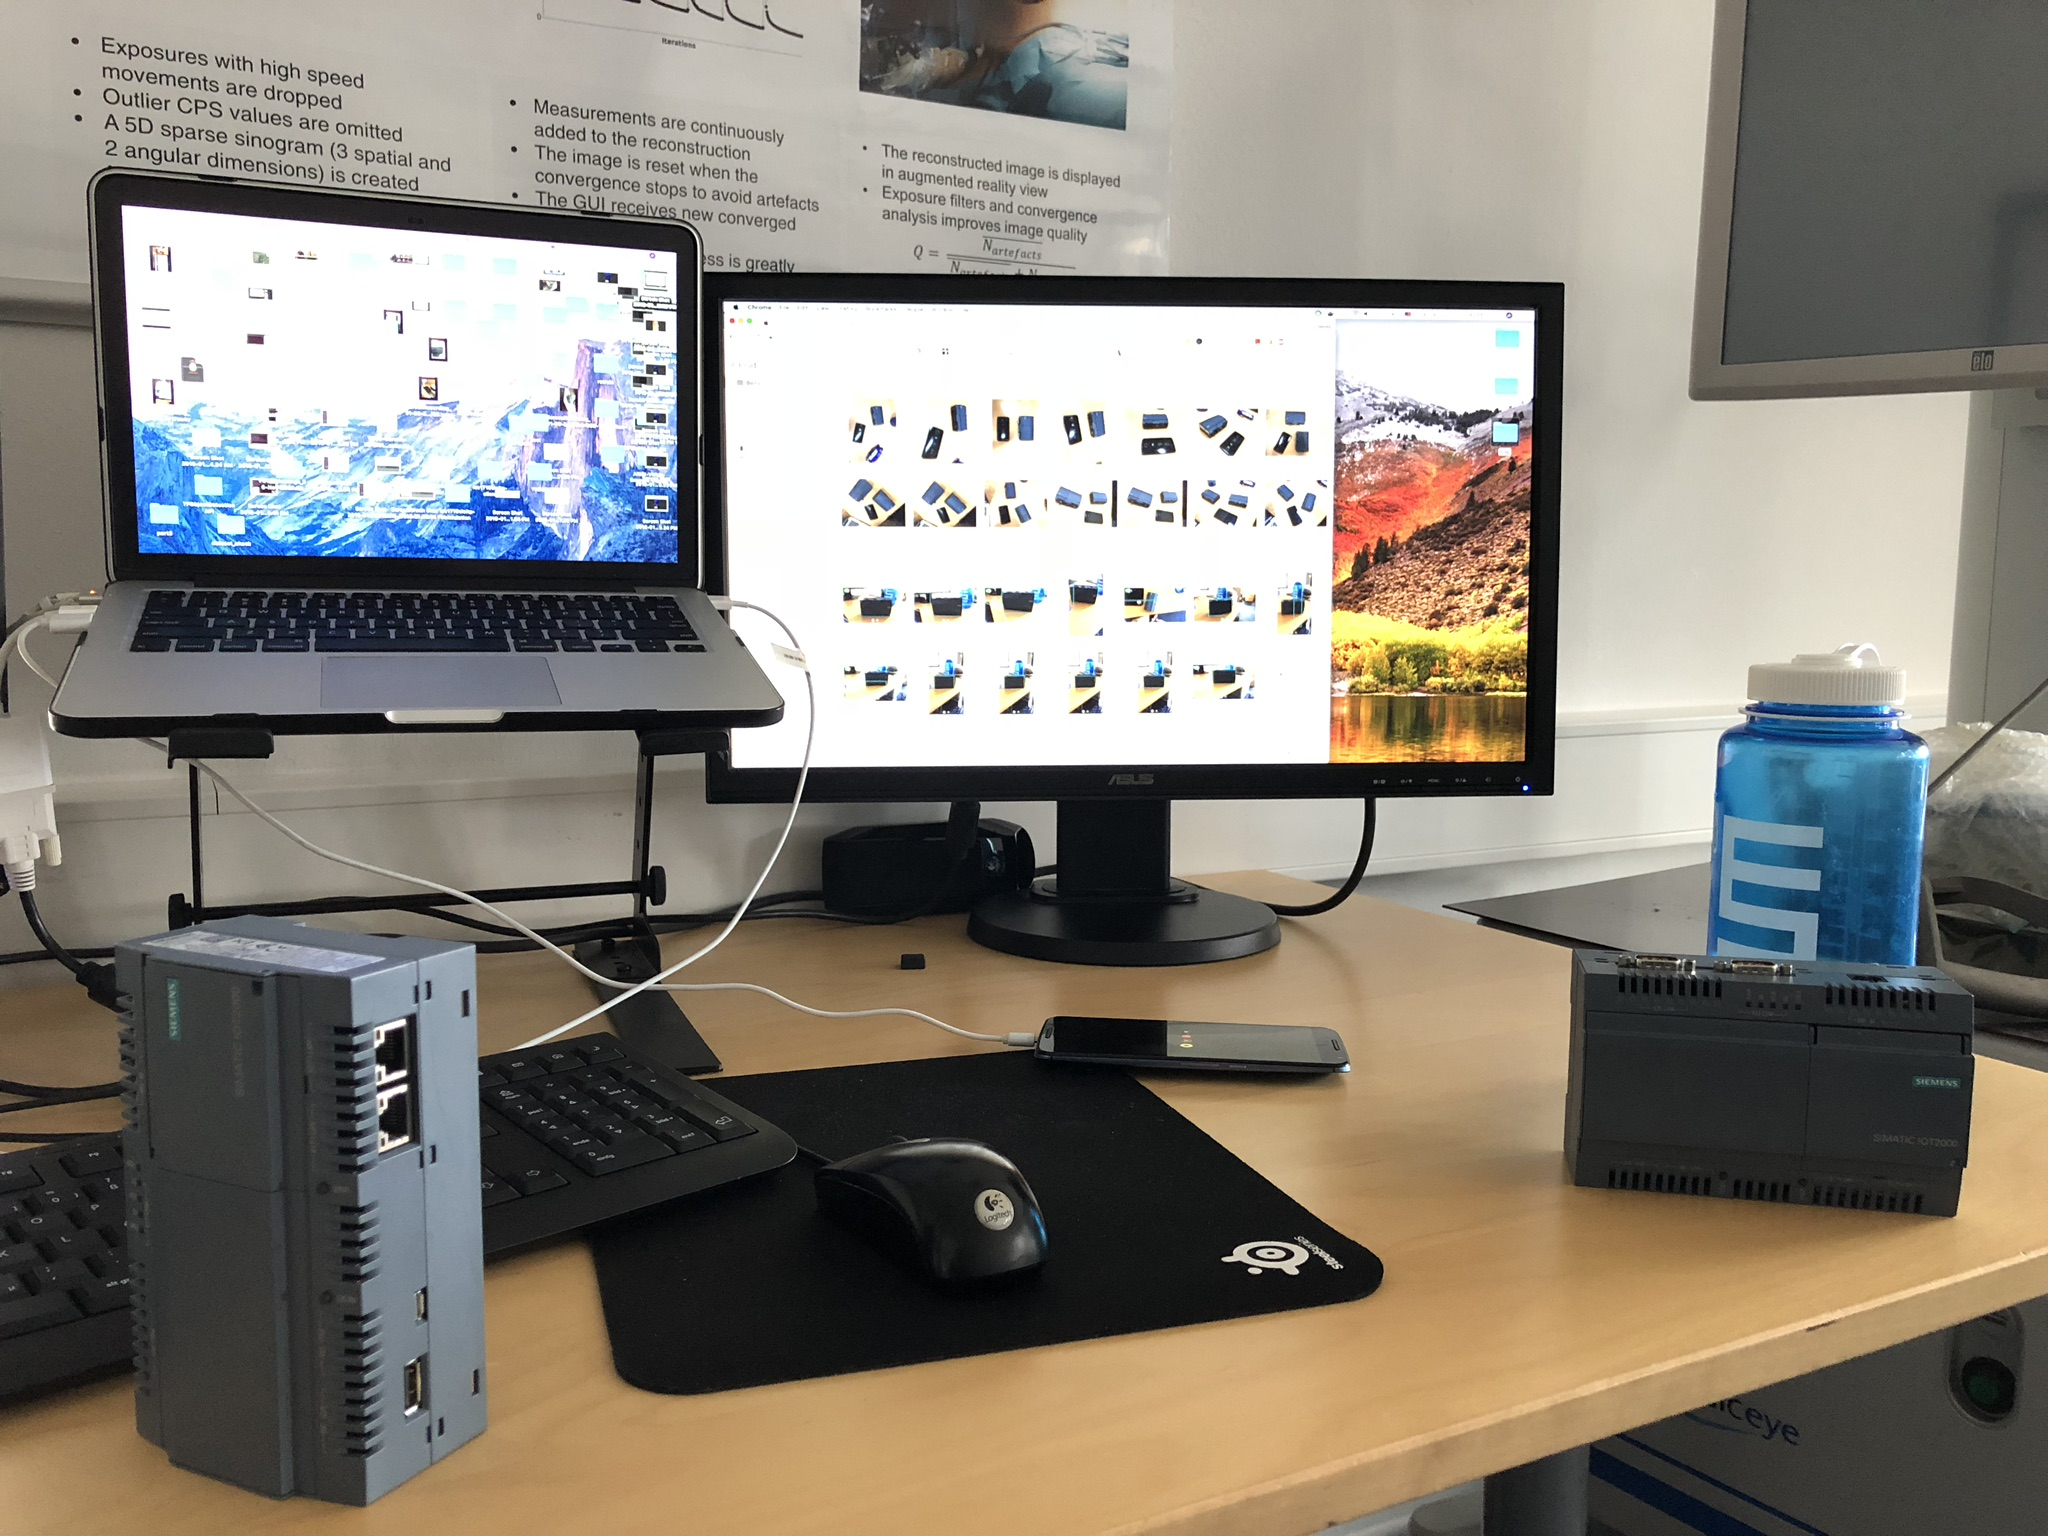device: (116, 913, 489, 1509), (1563, 949, 1975, 1220)
